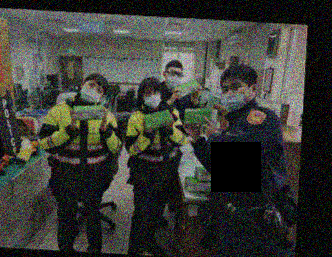with_mask: (219, 80, 251, 113), (79, 80, 104, 105), (142, 88, 163, 109), (164, 69, 184, 89)
